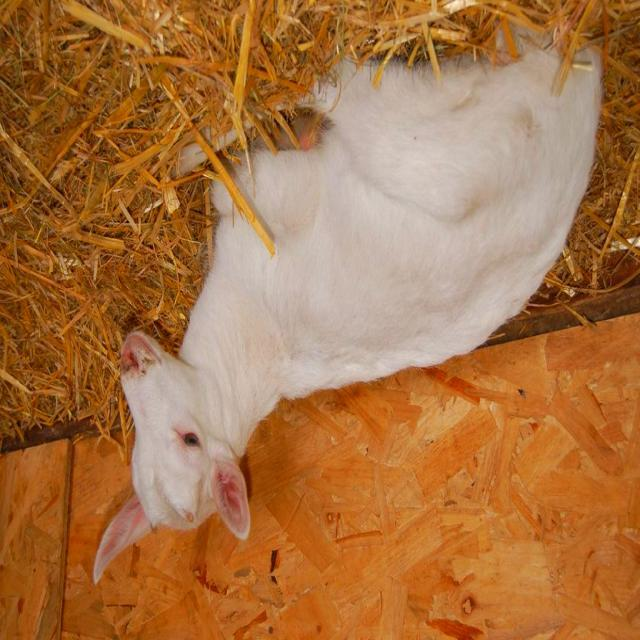Goat: (94, 22, 605, 586)
